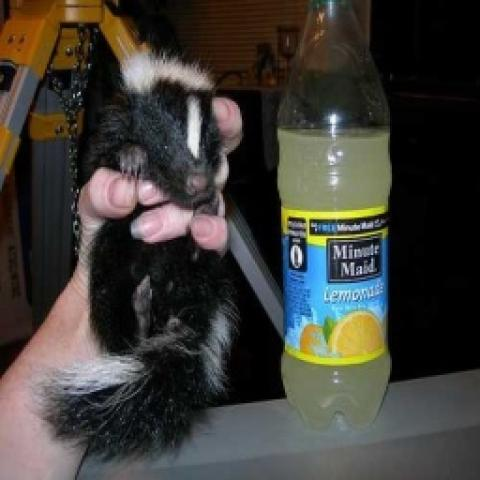small_animal: (39, 45, 244, 461)
